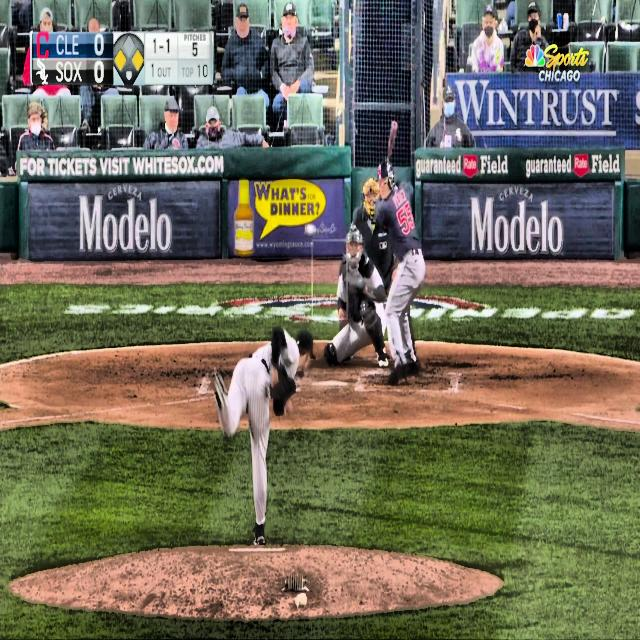baseball: (304, 223, 317, 237)
